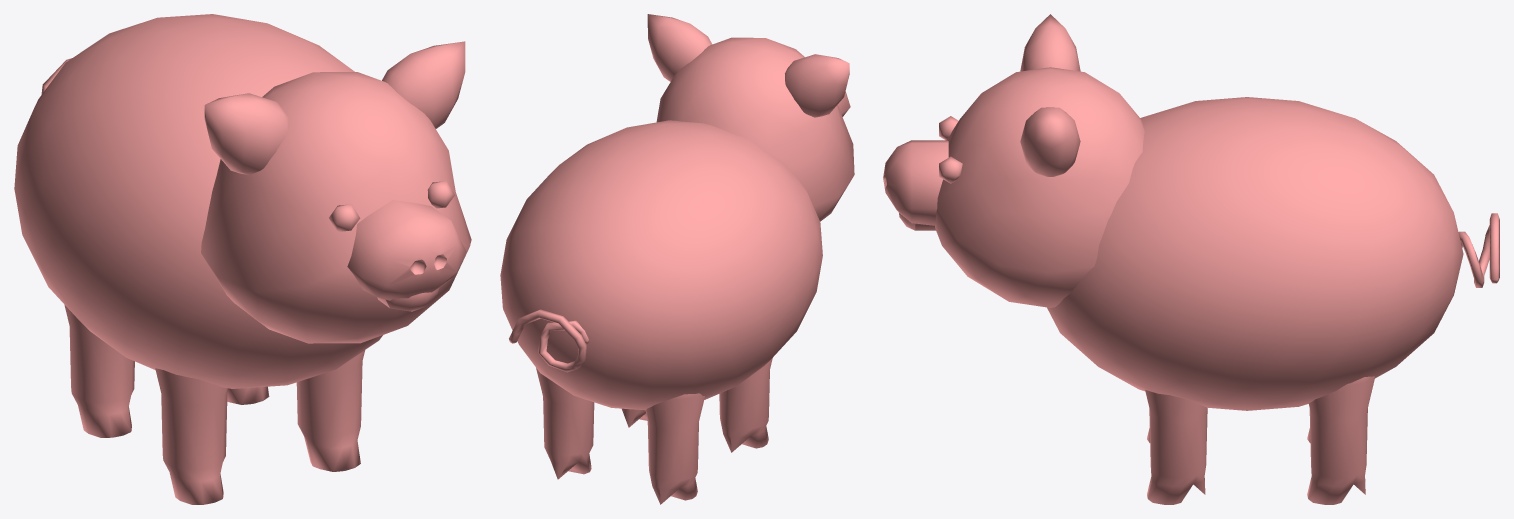
Rendered from 6yc3isbjZST.glb.
The picture shows the model from 3 angles, left to right: view 1: azimuth 30°, elevation 25°; view 2: azimuth 150°, elevation 25°; view 3: azimuth 270°, elevation 25°; orthographic projection. The views are drawn at different scales.
Parts seen in each view (by area): view 1: Null.1; view 2: Null.1; view 3: Null.1.
Boxes of the visible parts, bbox=[...] form: Null.1: bbox=[14, 14, 471, 504]; Null.1: bbox=[500, 14, 854, 504]; Null.1: bbox=[883, 14, 1499, 504].
Size of the model in its own units: 0.7738 by 1 by 1.4.
